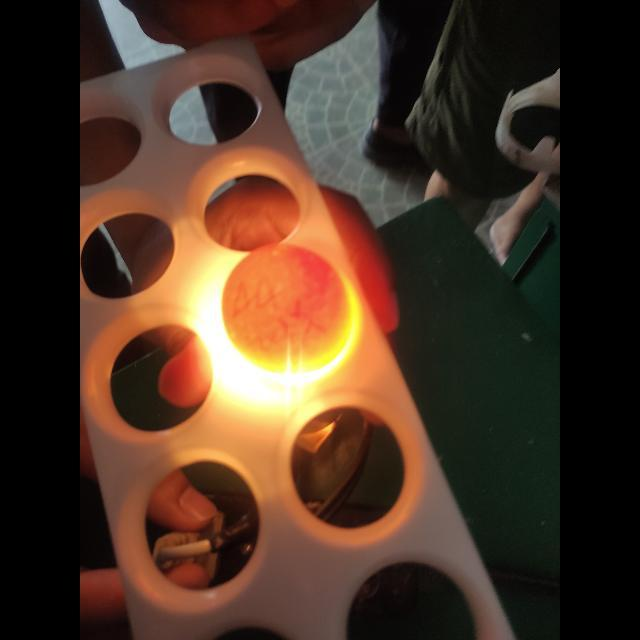Infertile: (224, 247, 356, 371)
